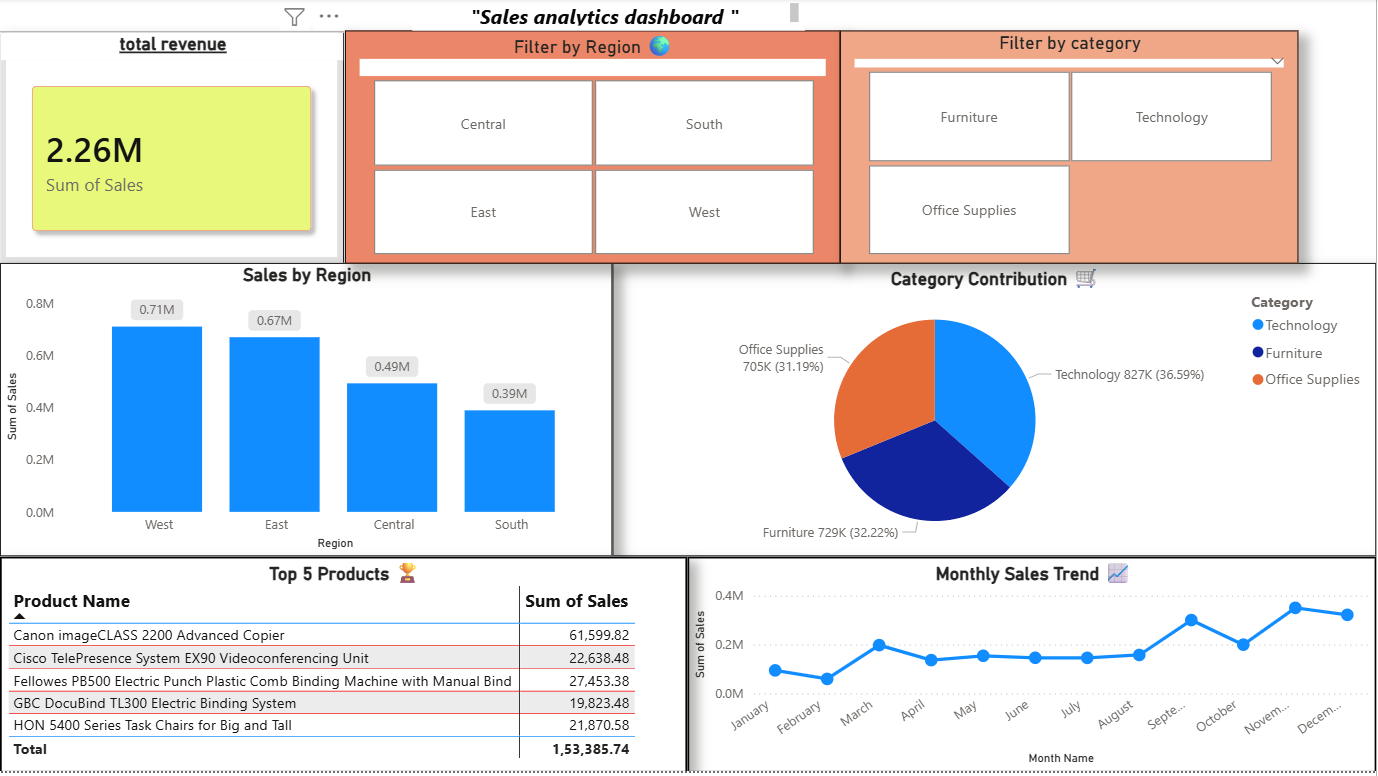

This screenshot's page, from the dashboard's own definition file:
{"tool":"powerbi","page":{"name":"Page 1","canvas":[1280,720],"ordinal":0},"visuals":[{"type":"cardVisual","title":"total revenue","fields":{"Data":["Sum(cleaned_sales_data.Sales)"]},"box":[0,31.8,320.4,216.4],"z":0},{"type":"pieChart","title":"Category Contribution 🛒","fields":{"Category":["cleaned_sales_data.Category"],"Y":["Sum(cleaned_sales_data.Sales)"]},"box":[569.8,247,710.5,272.7],"z":1000},{"type":"lineChart","title":"Monthly Sales Trend 📈","fields":{"Y":["Sum(cleaned_sales_data.Sales)"],"Category":["cleaned_sales_data.Month Name"]},"box":[639.5,519.7,640.8,200.5],"z":2000},{"type":"clusteredColumnChart","title":"Sales by Region","fields":{"Category":["cleaned_sales_data.Region"],"Y":["Sum(cleaned_sales_data.Sales)"]},"box":[0,247,569.8,272.7],"z":3000},{"type":"tableEx","title":"Top 5 Products 🏆","fields":{"Values":["cleaned_sales_data.Product Name","Sum(cleaned_sales_data.Sales)"]},"box":[0,519.7,639.5,200.5],"z":4000},{"type":"actionButton","box":[283.7,0,100.3,40.4],"z":5000},{"type":"slicer","title":"Filter by Region 🌍","fields":{"Values":["cleaned_sales_data.Region"]},"box":[320.4,30.6,461,216.4],"z":6000},{"type":"slicer","title":"Filter by category","fields":{"Values":["cleaned_sales_data.Category"]},"box":[781.4,30.6,426.8,216.4],"z":7000},{"type":"textbox","box":[384,0,364.4,30.6],"z":7001}]}

Visuals, with their boxes in screenshot pixels (x1, y1, x2, y2), scaled from the page's 1280x720 canvas onto the 1378x776 screenshot:
"total revenue" cardVisual: locate(0, 34, 345, 268)
"Category Contribution 🛒" pieChart: locate(613, 266, 1377, 560)
"Monthly Sales Trend 📈" lineChart: locate(688, 560, 1377, 775)
"Sales by Region" clusteredColumnChart: locate(0, 266, 613, 560)
"Top 5 Products 🏆" tableEx: locate(0, 560, 688, 775)
actionButton: locate(305, 0, 413, 44)
"Filter by Region 🌍" slicer: locate(345, 33, 841, 266)
"Filter by category" slicer: locate(841, 33, 1301, 266)
textbox: locate(413, 0, 806, 33)
